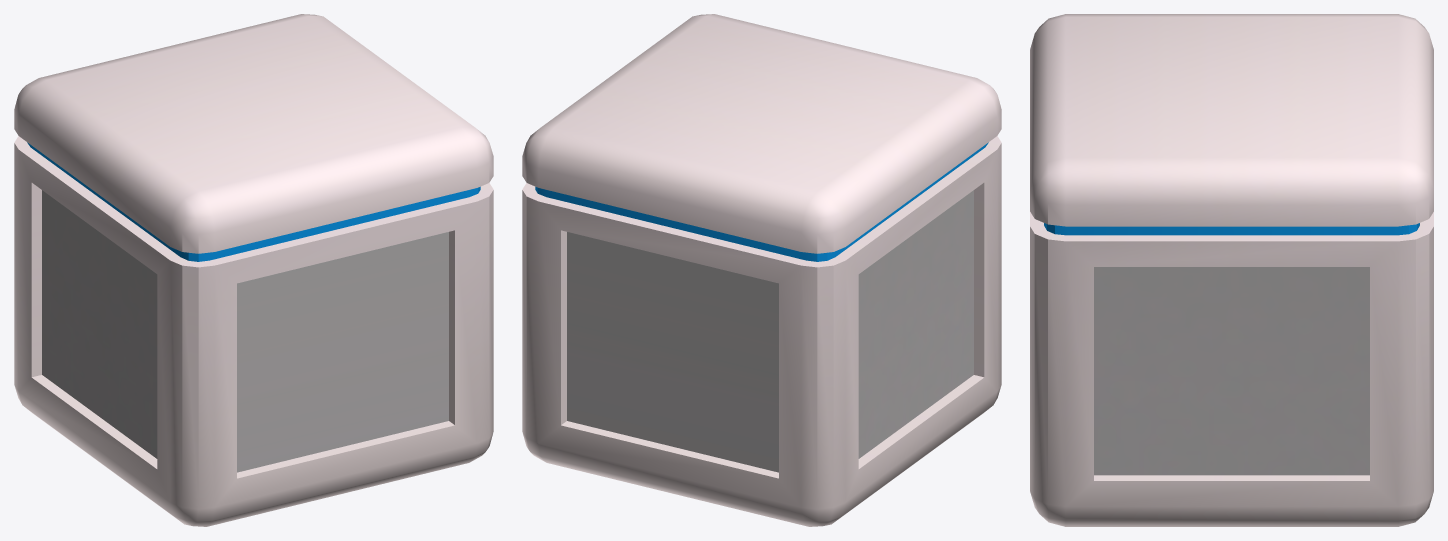
File: caixa 1.fbx
3 renders of one model, left to right at view 1: azimuth 30°, elevation 25°; view 2: azimuth 150°, elevation 25°; view 3: azimuth 270°, elevation 25°, orthographic. The views are drawn at different scales.
Visible parts, largest first — view 1: Cube.001, Cube.009; view 2: Cube.001, Cube.009; view 3: Cube.001, Cube.009.
Part boxes in pixels (<box>): Cube.001: <box>14,14,493,526</box>; Cube.009: <box>27,142,480,261</box>; Cube.001: <box>522,14,1001,526</box>; Cube.009: <box>535,142,988,261</box>; Cube.001: <box>1030,14,1433,526</box>; Cube.009: <box>1044,223,1419,235</box>.
Size of the model in its own units: 200 by 200 by 200.
